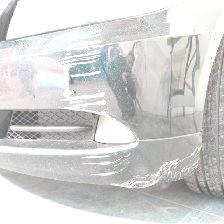bumper_scratch: (55, 16, 197, 176)
